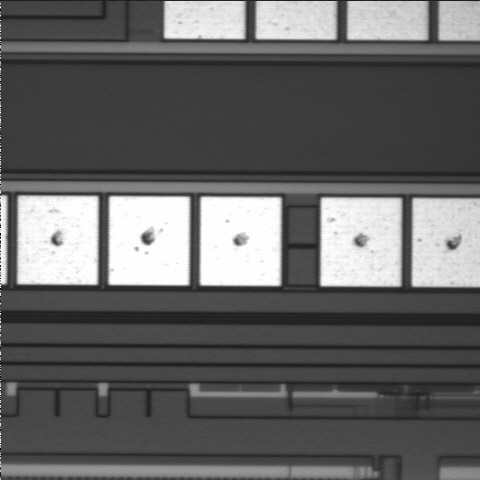pad: (17, 196, 98, 285), (109, 196, 190, 285), (200, 197, 281, 286), (321, 198, 401, 286)
